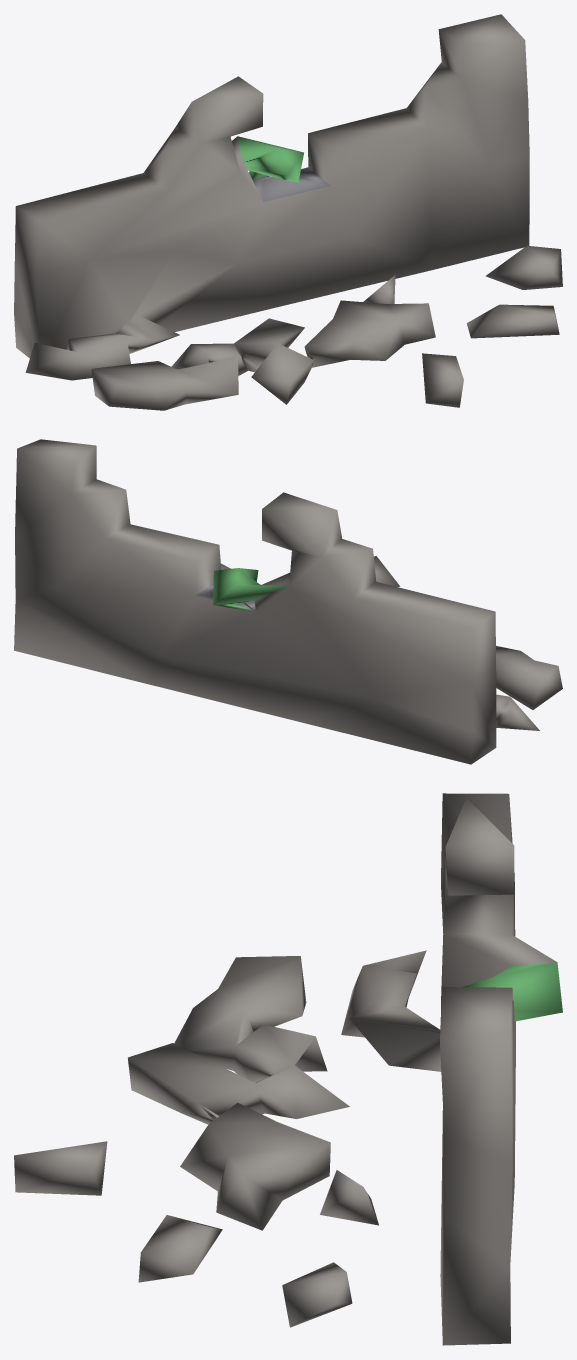
Rendered from poi_ruin_wall_a_LOD2.glb.
3 views of the same model, one above another, from view 1: azimuth 30°, elevation 25°; view 2: azimuth 150°, elevation 25°; view 3: azimuth 270°, elevation 25° (orthographic). The views are drawn at different scales.
Visible parts, largest first — view 1: poi_ruin_wall_a_LOD2; view 2: poi_ruin_wall_a_LOD2; view 3: poi_ruin_wall_a_LOD2.
Part boxes in pixels (x1,y1,x2,y2): poi_ruin_wall_a_LOD2: (14,14,562,410); poi_ruin_wall_a_LOD2: (14,439,562,764); poi_ruin_wall_a_LOD2: (14,793,562,1345).
Bounding box in the file's own units: 7.17 × 2.9 × 4.53.
